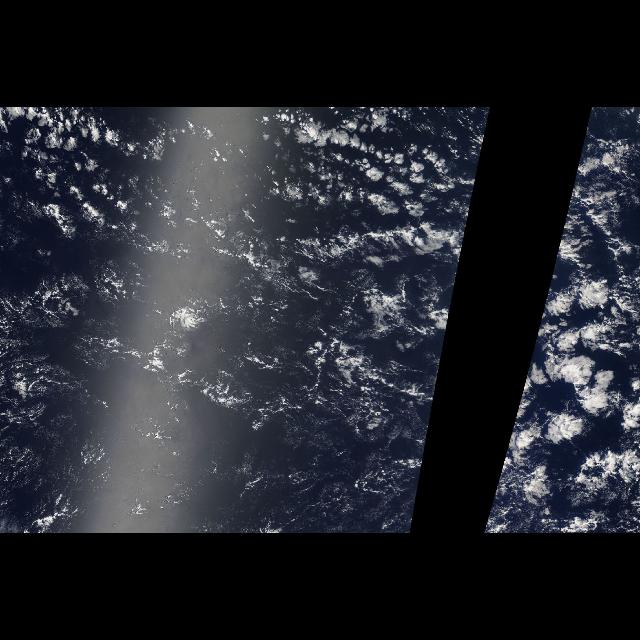Flower: (4, 112, 462, 230), (485, 240, 639, 528), (416, 240, 466, 504)
Sugar: (7, 244, 142, 526)
